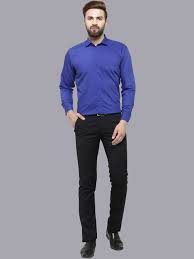F_dress pants: (72, 109, 127, 235)
F_shirt: (52, 32, 140, 119)
